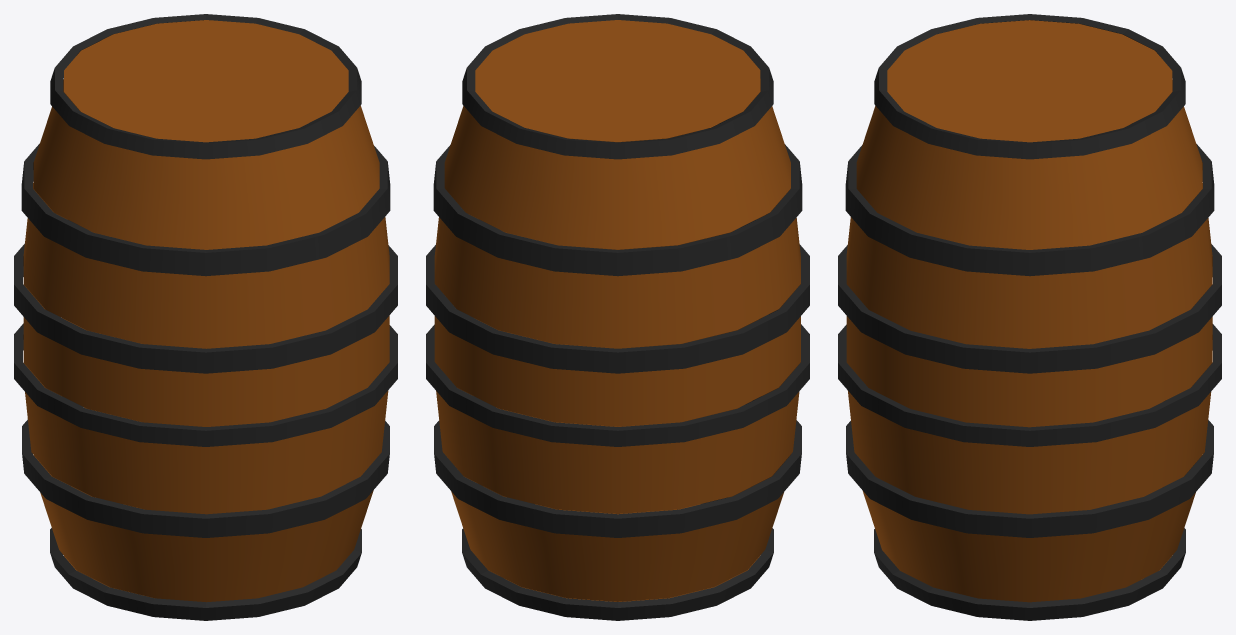
File: Barrel.FBX
The picture shows the model from 3 angles, left to right: view 1: azimuth 30°, elevation 25°; view 2: azimuth 150°, elevation 25°; view 3: azimuth 270°, elevation 25°; orthographic projection.
Parts seen in each view (by area): view 1: Barrel; view 2: Barrel; view 3: Barrel.
Part boxes in pixels (x1=…): Barrel: x1=14, y1=14, x2=397, y2=620; Barrel: x1=426, y1=14, x2=809, y2=620; Barrel: x1=838, y1=14, x2=1221, y2=620.
Bounding box in the file's own units: 67.25 × 90.88 × 66.23.
